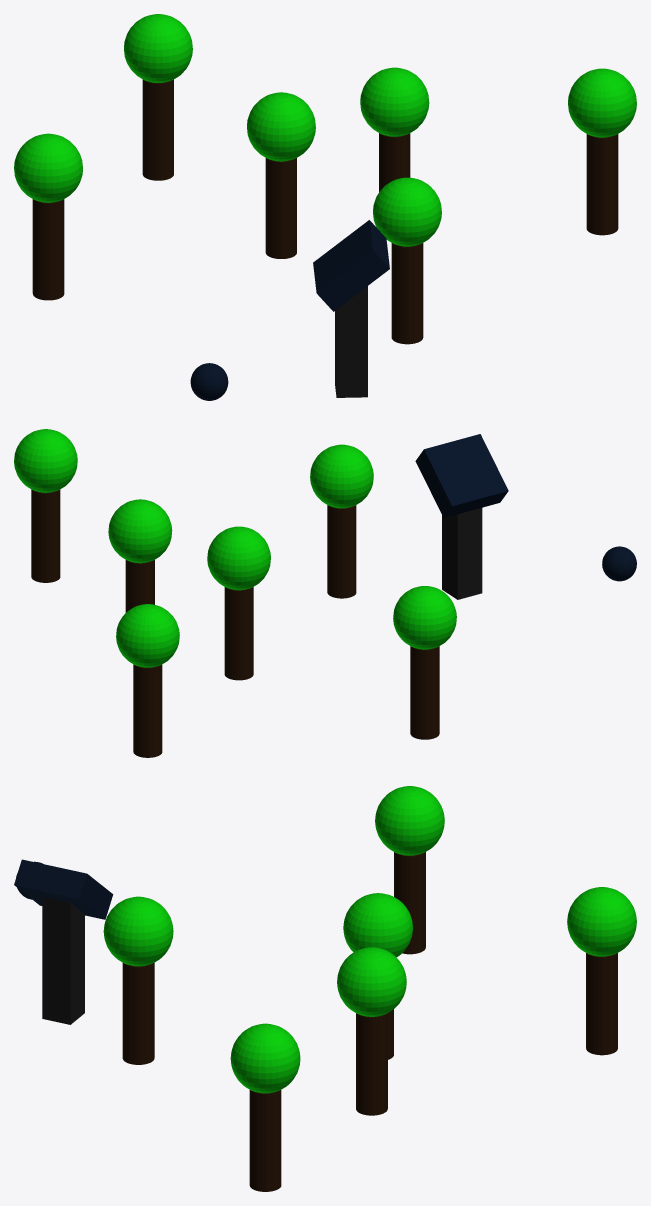
The model's file is exercise20064.obj.
The picture shows the model from 3 angles, top to bottom: view 1: azimuth 30°, elevation 25°; view 2: azimuth 150°, elevation 25°; view 3: azimuth 270°, elevation 25°; orthographic projection. The views are drawn at different scales.
Visible parts, largest first — view 1: Cube.001, Sphere, Sphere.003, Sphere.002, Sphere.006, Sphere.005, Sphere.004, Cube, Cylinder.003, Cylinder.004, Cylinder.006, Cylinder.005 (+4 smaller); view 2: Cube.001, Cube, Sphere.005, Sphere.003, Sphere.006, Sphere.004, Sphere.002, Sphere, Cylinder.006, Cylinder.002, Cylinder.004, Cylinder.005 (+4 smaller); view 3: Cube, Sphere.004, Sphere.003, Sphere.006, Sphere, Sphere.005, Sphere.002, Cube.001, Cylinder.004, Cylinder.003, Cylinder.005, Cylinder (+2 smaller).
Part boxes in pixels (box(x1,y1,x2,y2)): Cube.001: box(313, 220, 389, 311); Sphere: box(360, 67, 429, 136); Sphere.003: box(568, 68, 636, 137); Sphere.002: box(247, 92, 315, 161); Sphere.006: box(14, 133, 82, 202); Sphere.005: box(124, 14, 192, 82); Sphere.004: box(373, 177, 441, 246); Cube: box(335, 286, 367, 397); Cylinder.003: box(586, 134, 618, 235); Cylinder.004: box(391, 243, 423, 344); Cylinder.006: box(32, 199, 64, 300); Cylinder.005: box(142, 79, 173, 180); Cube.001: box(415, 434, 508, 517); Cube: box(442, 508, 482, 599); Sphere.005: box(116, 604, 179, 667); Sphere.003: box(14, 429, 77, 492); Sphere.006: box(393, 586, 456, 649); Sphere.004: box(310, 444, 373, 508); Sphere.002: box(207, 526, 270, 590); Sphere: box(108, 499, 172, 563); Cylinder.006: box(410, 646, 439, 739); Cylinder.002: box(224, 587, 253, 680); Cylinder.004: box(327, 505, 356, 598); Cylinder.005: box(133, 664, 162, 757); Cube: box(42, 897, 84, 1024); Sphere.004: box(103, 896, 173, 966); Sphere.003: box(230, 1023, 300, 1093); Sphere.006: box(375, 786, 444, 855); Sphere: box(337, 947, 406, 1016); Sphere.005: box(567, 887, 636, 956); Sphere.002: box(343, 893, 412, 957); Cube.001: box(14, 859, 113, 919); Cylinder.004: box(122, 962, 154, 1064); Cylinder.003: box(249, 1090, 281, 1191); Cylinder.005: box(586, 953, 617, 1055); Cylinder: box(356, 1013, 387, 1115).
Size of what is drawn, in the model's own units: 40.53 by 11.23 by 39.13.
